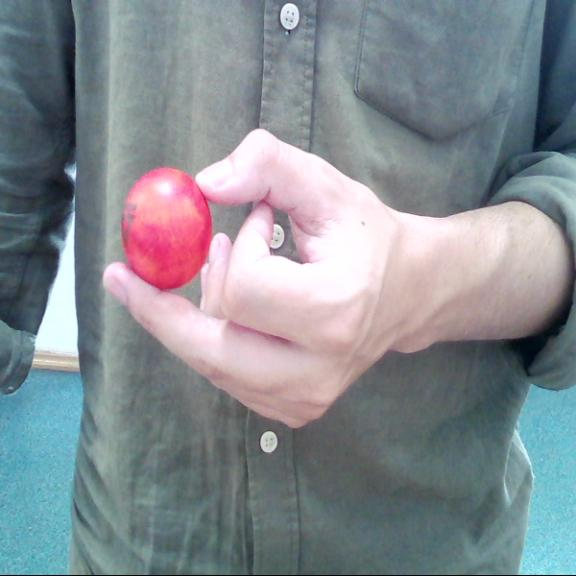ball: (122, 170, 208, 288)
